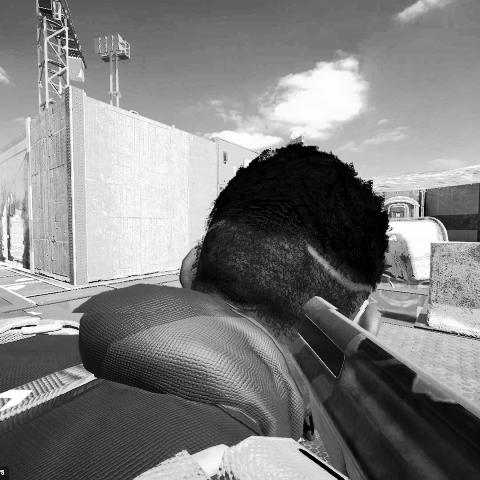Character: (1, 136, 480, 480)
Head: (182, 142, 399, 347)
